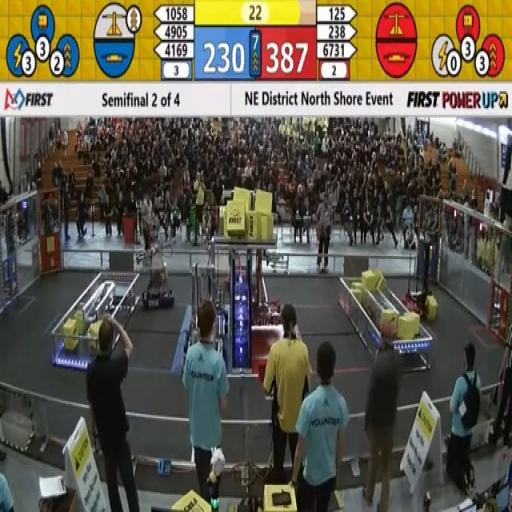robot: (184, 261, 226, 373), (133, 231, 176, 312), (404, 236, 441, 322), (254, 241, 284, 324), (204, 234, 230, 326)
